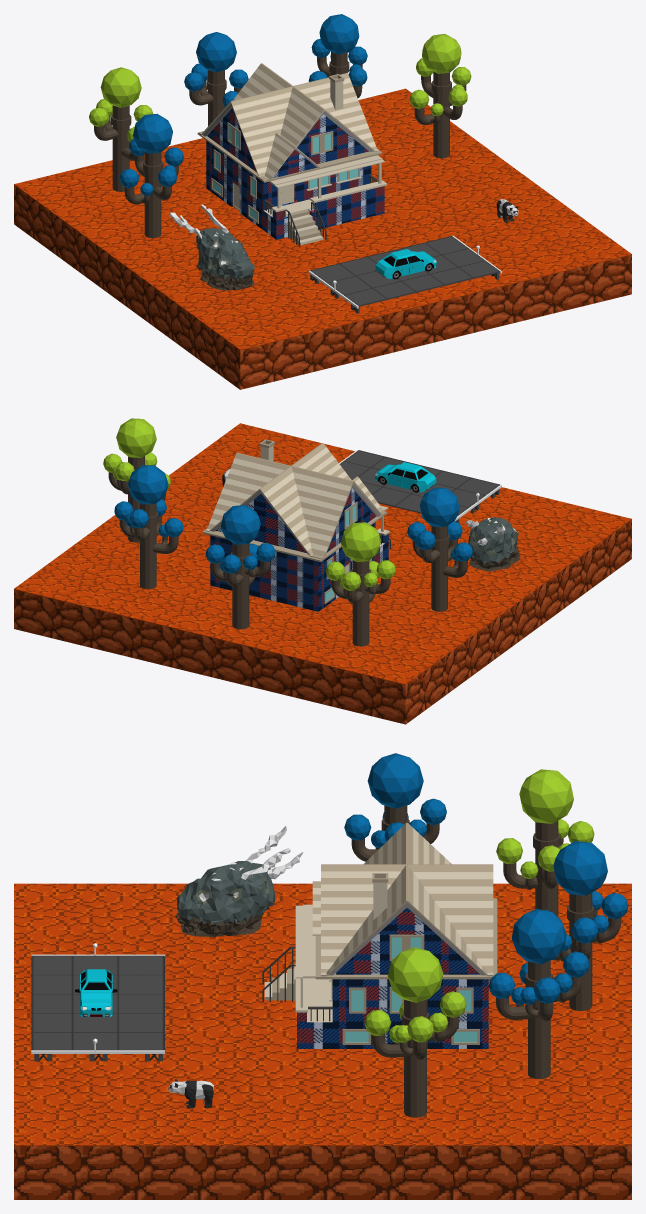
3 renders of one model, top to bottom at view 1: azimuth 30°, elevation 25°; view 2: azimuth 150°, elevation 25°; view 3: azimuth 270°, elevation 25°, orthographic. The views are drawn at different scales.
Parts seen in each view (by area): view 1: Cube.001, Cube.171, OBJRANDOM_METEORITE, VEHICLES_CAR; view 2: Cube.001, Cube.171, OBJRANDOM_METEORITE, VEHICLES_CAR; view 3: Cube.001, Cube.171, OBJRANDOM_METEORITE, VEHICLES_CAR, ANIMAL_PANDA.
Boxes of the visible parts, <box> form: Cube.001: <box>14,14,631,389</box>; Cube.171: <box>197,63,387,246</box>; OBJRANDOM_METEORITE: <box>170,204,254,290</box>; VEHICLES_CAR: <box>375,249,436,279</box>; Cube.001: <box>14,418,631,724</box>; Cube.171: <box>202,439,390,611</box>; OBJRANDOM_METEORITE: <box>465,517,520,571</box>; VEHICLES_CAR: <box>374,462,436,492</box>; Cube.001: <box>14,753,631,1199</box>; Cube.171: <box>262,823,497,1048</box>; OBJRANDOM_METEORITE: <box>175,826,303,936</box>; VEHICLES_CAR: <box>75,969,117,1016</box>; ANIMAL_PANDA: <box>168,1079,213,1108</box>.
Size of the model in its own units: 4000 by 1672 by 4000.
Materials: 31 (5 with a texture image).
